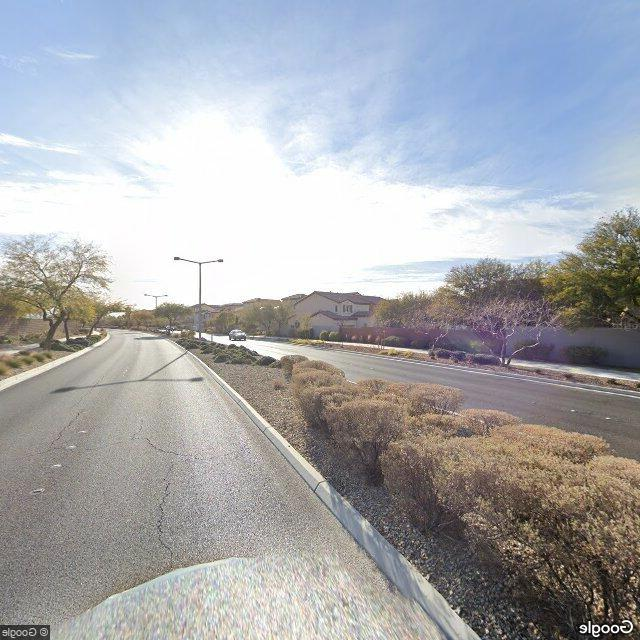crack: (45, 371, 105, 447), (133, 427, 266, 458), (152, 467, 179, 565)
